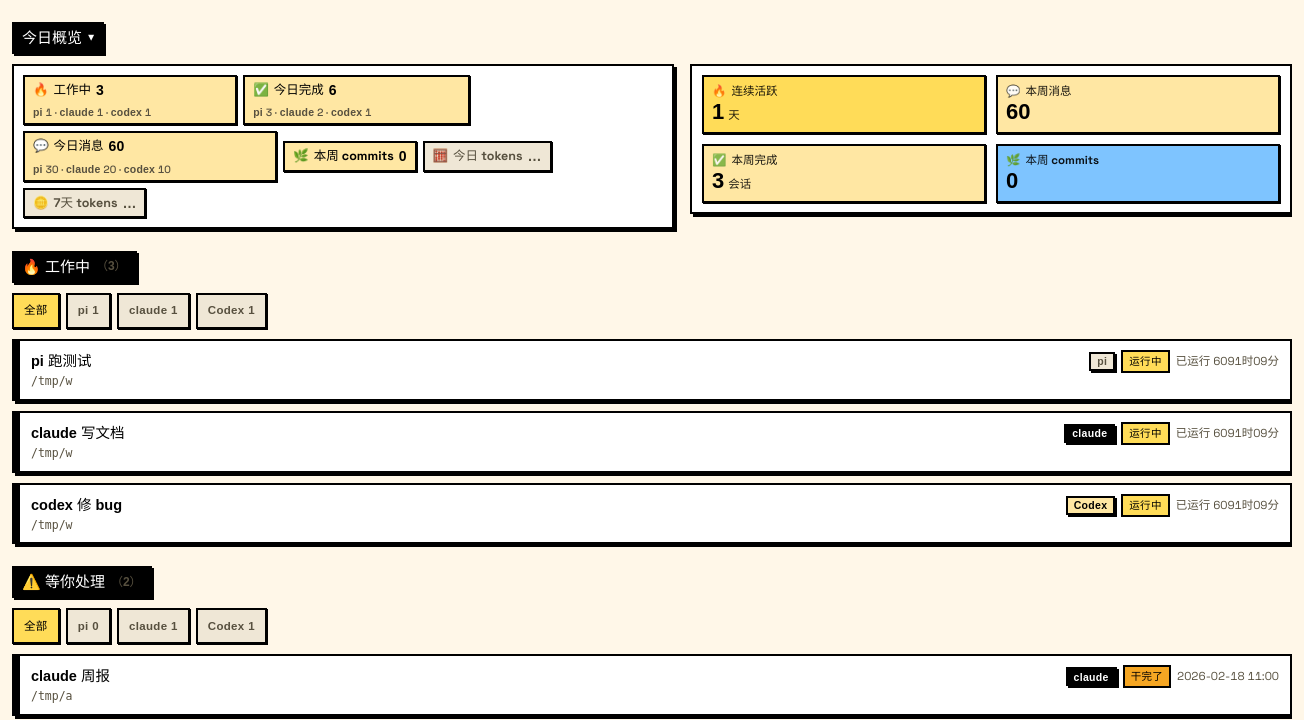
Test: HomePage 来源过滤 chips（工作中 / 等你处理） › 点「claude」chip → 工作中列表只剩 claude 会话；点「全部」恢复
Click the 1st button "claude 1". click: (153, 311)
box: [117,293,190,329]
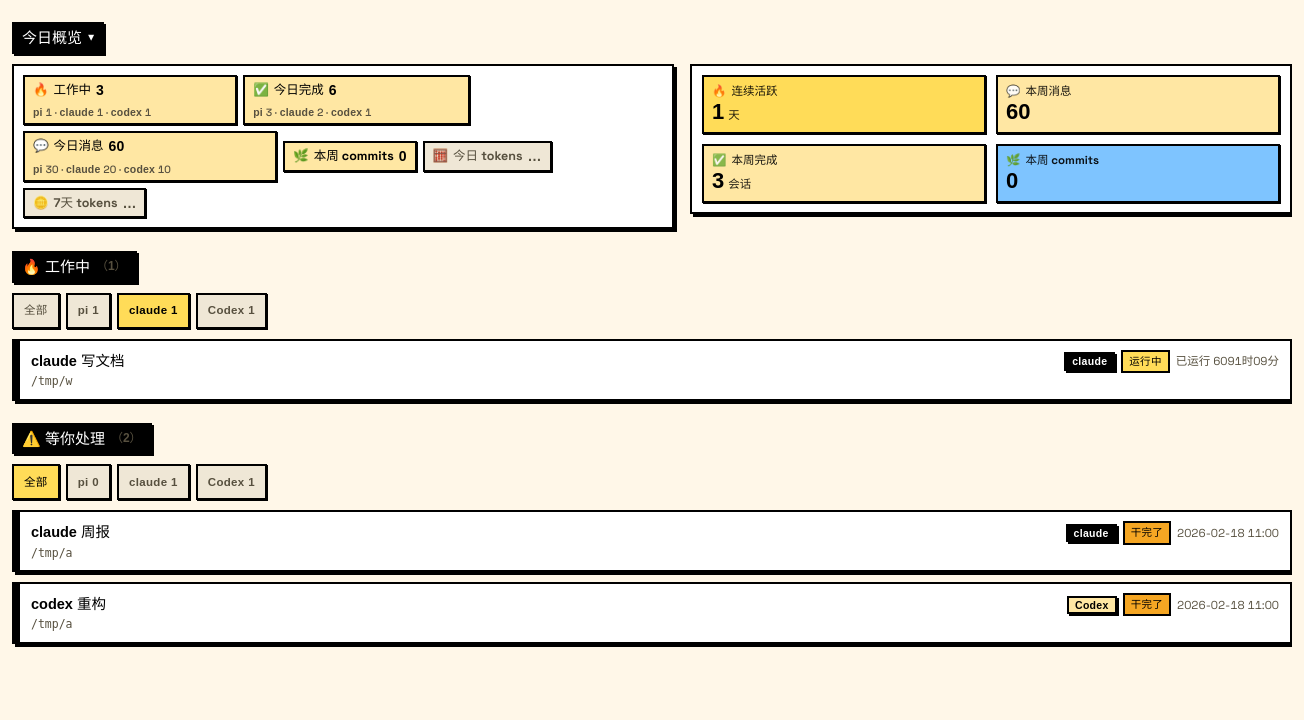
Expected: the text "claude 写文档" is shown, [31,353,124,369]
Result: the text "pi 跑测试" is gone
Result: the text "codex 修 bug" is gone
Click the 1st button "全部". click: (36, 311)
box: [12,293,60,329]
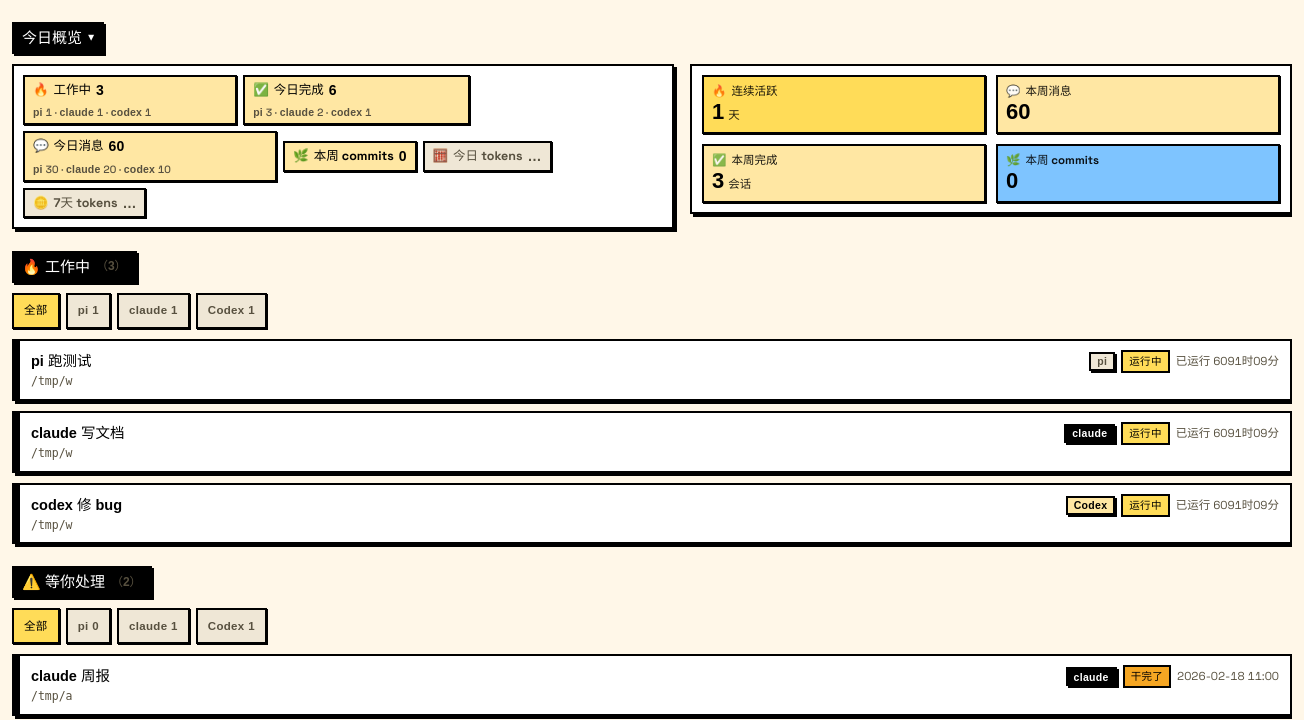
Result: the text "pi 跑测试" is shown at [31,353,91,369]
Result: the text "codex 修 bug" is shown at [31,497,122,513]
